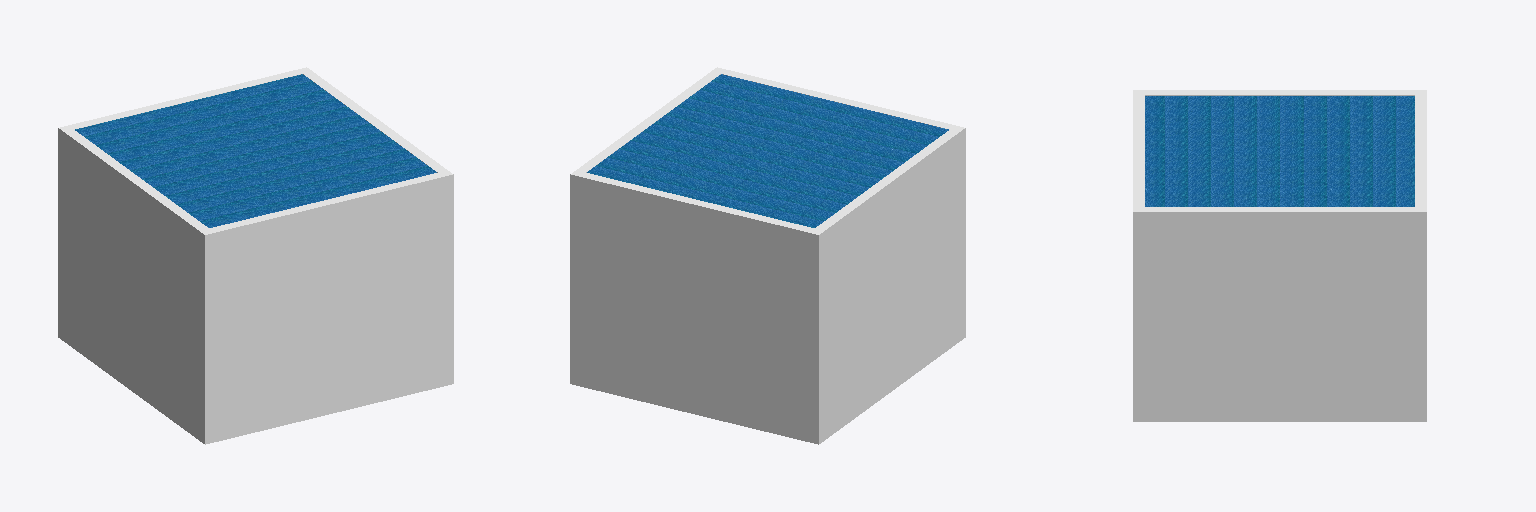
3 renders of one model, left to right at view 1: azimuth 30°, elevation 25°; view 2: azimuth 150°, elevation 25°; view 3: azimuth 270°, elevation 25°, orthographic.
Parts seen in each view (by area): view 1: wall_3_12, room_1_2, wall_2_6, wall_4_20, wall_2_8, wall_5_26, wall_3_14, wall_2_7, wall_4_19, wall_3_13, wall_5_23, wall_5_25 (+1 smaller); view 2: wall_5_24, room_1_2, wall_2_6, wall_4_20, wall_5_26, wall_3_14, wall_2_8, wall_2_7, wall_4_19, wall_5_25, wall_3_13, wall_5_23; view 3: wall_4_18, room_1_2, wall_4_20, wall_2_8, wall_5_26, wall_3_14, wall_5_25, wall_3_13, wall_4_19, wall_2_7.
Boxes of the visible parts, box(x1,y1,x2,y2) form: wall_3_12: box(205, 174, 453, 444); room_1_2: box(75, 74, 436, 227); wall_2_6: box(64, 132, 204, 443); wall_4_20: box(305, 68, 451, 173); wall_2_8: box(62, 129, 206, 234); wall_5_26: box(59, 67, 306, 129); wall_3_14: box(205, 174, 452, 234); wall_2_7: box(67, 128, 208, 230); wall_4_19: box(303, 71, 445, 173); wall_3_13: box(207, 173, 444, 231); wall_5_23: box(61, 74, 300, 340); wall_5_25: box(67, 71, 303, 129); wall_5_24: box(570, 174, 821, 444); room_1_2: box(587, 74, 948, 227); wall_2_6: box(825, 128, 965, 439); wall_4_20: box(572, 68, 718, 173); wall_5_26: box(571, 174, 820, 234); wall_3_14: box(717, 67, 963, 128); wall_2_8: box(819, 128, 964, 231); wall_2_7: box(813, 129, 956, 230); wall_4_19: box(578, 71, 720, 173); wall_5_25: box(579, 173, 822, 232); wall_3_13: box(720, 71, 956, 129); wall_5_23: box(822, 231, 824, 441); wall_4_18: box(1133, 212, 1426, 421); room_1_2: box(1145, 96, 1414, 206); wall_4_20: box(1134, 209, 1425, 211); wall_2_8: box(1133, 90, 1420, 92); wall_5_26: box(1421, 90, 1426, 211); wall_3_14: box(1133, 91, 1138, 211); wall_5_25: box(1415, 91, 1420, 208); wall_3_13: box(1139, 93, 1144, 208); wall_4_19: box(1141, 207, 1418, 208); wall_2_7: box(1141, 93, 1416, 94).
Bounding box in the file's own units: 189 × 152 × 193.
2 materials, 1 textured.